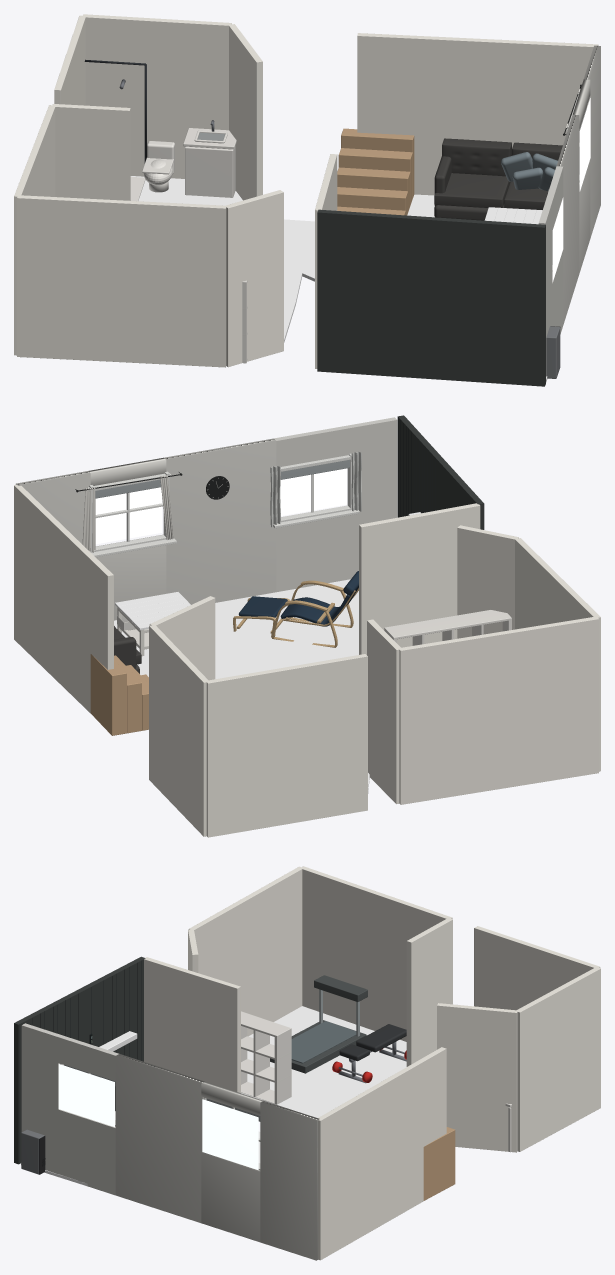
3 views of the same model, one above another, from view 1: azimuth 30°, elevation 25°; view 2: azimuth 150°, elevation 25°; view 3: azimuth 270°, elevation 25° (orthographic). The views are drawn at different scales.
Visible parts, largest first — view 1: source-wall-8-replacement, home-lower-level_observed_wall_0_panel, home-lower-level_observed_wall_6_panel, home-lower-level_observed_wall_4_panel, home-lower-level_observed_wall_10_panel, home-lower-level_observed_wall_2_panel, home-lower-level_observed_wall_5_panel, home-lower-level_independently_traced_floor, actual-second-window-wall-between-windows, home-lower-level_observed_wall_1_panel, home-lower-level__bath_vanity__cabinet, home-lower-level__lounge_sofa__seat_0__source_closed (+23 smaller); view 2: home-lower-level_observed_wall_1_panel, home-lower-level_observed_wall_3_panel, actual-second-window-wall-between-windows, home-lower-level_observed_wall_6_panel, home-lower-level_observed_wall_9_panel, home-lower-level_observed_wall_4_panel, home-lower-level_independently_traced_floor, home-lower-level_observed_wall_10_panel, home-lower-level_observed_wall_2_panel, source-wall-8-replacement, actual-window-cutout-wall-below, actual-window-cutout-wall-left (+18 smaller); view 3: home-lower-level_observed_wall_6_panel, home-lower-level_observed_wall_1_panel, actual-second-window-wall-between-windows, home-lower-level_observed_wall_4_panel, home-lower-level_observed_wall_0_panel, home-lower-level_observed_wall_5_panel, home-lower-level_observed_wall_9_panel, actual-second-window-wall-rightof-second, source-wall-8-replacement, home-lower-level_observed_wall_3_panel, home-lower-level_independently_traced_floor, home-lower-level_observed_wall_2_panel (+16 smaller).
Part boxes in pixels (box(x1,y1,x2,y2)): source-wall-8-replacement: box(317, 209, 545, 386); home-lower-level_observed_wall_0_panel: box(17, 195, 226, 367); home-lower-level_observed_wall_6_panel: box(357, 33, 598, 195); home-lower-level_observed_wall_4_panel: box(83, 14, 231, 178); home-lower-level_observed_wall_10_panel: box(226, 190, 283, 367); home-lower-level_observed_wall_2_panel: box(52, 104, 130, 200); home-lower-level_observed_wall_5_panel: box(229, 24, 262, 200); home-lower-level_independently_traced_floor: box(130, 176, 547, 382); actual-second-window-wall-between-windows: box(556, 115, 579, 324); home-lower-level_observed_wall_1_panel: box(14, 105, 55, 355); home-lower-level__bath_vanity__cabinet: box(185, 146, 235, 197); home-lower-level__lounge_sofa__seat_0__source_closed: box(434, 173, 509, 207); home-lower-level_observed_wall_1_panel: box(399, 617, 598, 804); home-lower-level_observed_wall_3_panel: box(206, 654, 367, 837); actual-second-window-wall-between-windows: box(164, 438, 276, 604); home-lower-level_observed_wall_6_panel: box(14, 485, 113, 713); home-lower-level_observed_wall_9_panel: box(359, 503, 480, 654); home-lower-level_observed_wall_4_panel: box(149, 624, 207, 836); home-lower-level_independently_traced_floor: box(114, 579, 369, 793); home-lower-level_observed_wall_10_panel: box(457, 525, 518, 638); home-lower-level_observed_wall_2_panel: box(367, 619, 401, 803); source-wall-8-replacement: box(397, 415, 484, 529); actual-window-cutout-wall-below: box(276, 505, 350, 592); actual-window-cutout-wall-left: box(348, 417, 397, 579); home-lower-level_observed_wall_6_panel: box(318, 1047, 446, 1260); home-lower-level_observed_wall_1_panel: box(302, 866, 452, 1041); actual-second-window-wall-between-windows: box(115, 1054, 204, 1222); home-lower-level_observed_wall_4_panel: box(515, 967, 600, 1151); home-lower-level_observed_wall_0_panel: box(188, 866, 303, 1036); home-lower-level_observed_wall_5_panel: box(437, 1003, 517, 1152); home-lower-level_observed_wall_9_panel: box(144, 957, 240, 1092); actual-second-window-wall-rightof-second: box(260, 1101, 319, 1260); source-wall-8-replacement: box(14, 956, 145, 1164); home-lower-level_observed_wall_3_panel: box(474, 926, 600, 1010); home-lower-level_independently_traced_floor: box(21, 1006, 406, 1186); home-lower-level_observed_wall_2_panel: box(406, 918, 452, 1066).
Size of the model in its own units: 8.99 by 2.3 by 8.76.
